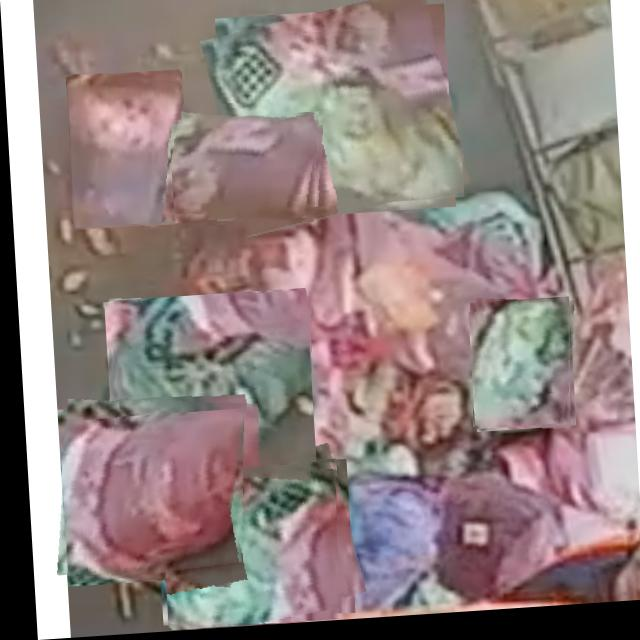general_trashbag: (214, 38, 461, 213), (110, 299, 307, 475), (158, 465, 331, 629), (468, 309, 566, 435)
other_trashbag: (57, 413, 239, 579), (67, 80, 181, 228), (171, 120, 316, 224)
